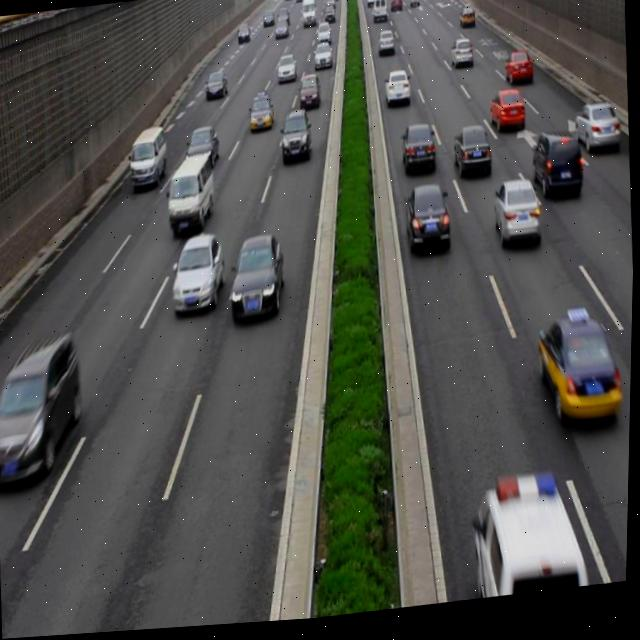car: (0, 331, 87, 487), (536, 310, 626, 437), (228, 236, 287, 324), (169, 231, 227, 319), (530, 135, 583, 208), (492, 182, 542, 256), (403, 187, 450, 259), (574, 108, 621, 165), (452, 129, 494, 187), (279, 112, 313, 168), (400, 128, 436, 180), (488, 96, 526, 144), (183, 129, 220, 171), (247, 94, 274, 136), (384, 74, 411, 114), (503, 57, 533, 93), (297, 76, 321, 114)
truck: (471, 482, 586, 606), (166, 156, 217, 239), (128, 127, 169, 192)
